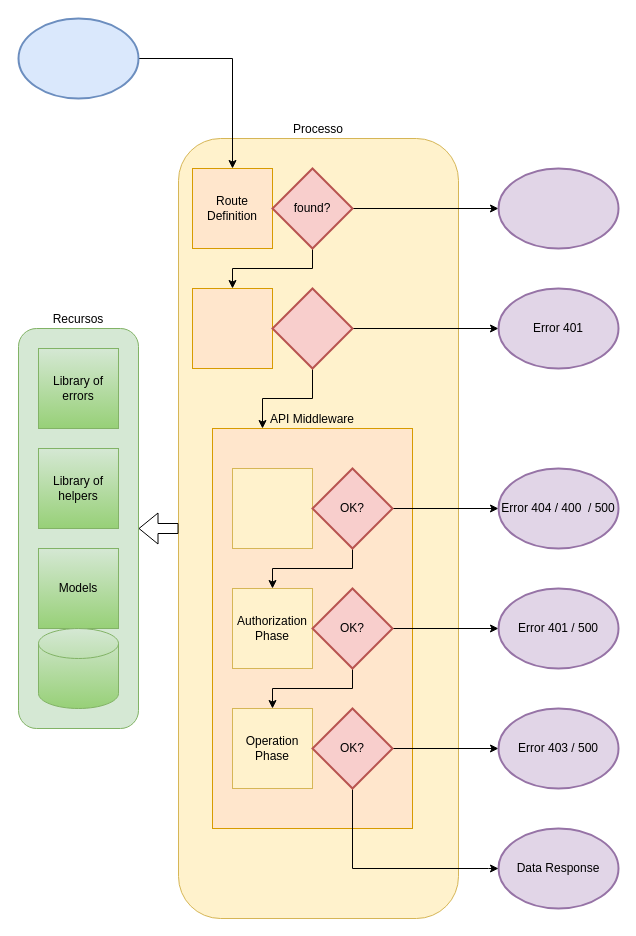
This 636x936 diagram has some shape labels left out. Each missing label, with the centre of its shape:
Auth Middleware: (x=232, y=328)
DB: (x=78, y=668)
Error 404: (x=558, y=208)
have?: (x=312, y=328)
Request: (x=78, y=58)
Validation Phase: (x=272, y=508)
